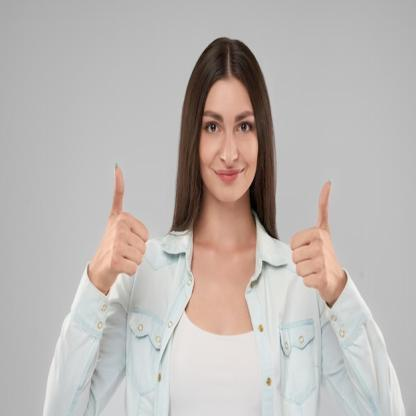thumb_up: (288, 179, 344, 304), (96, 158, 150, 284)
